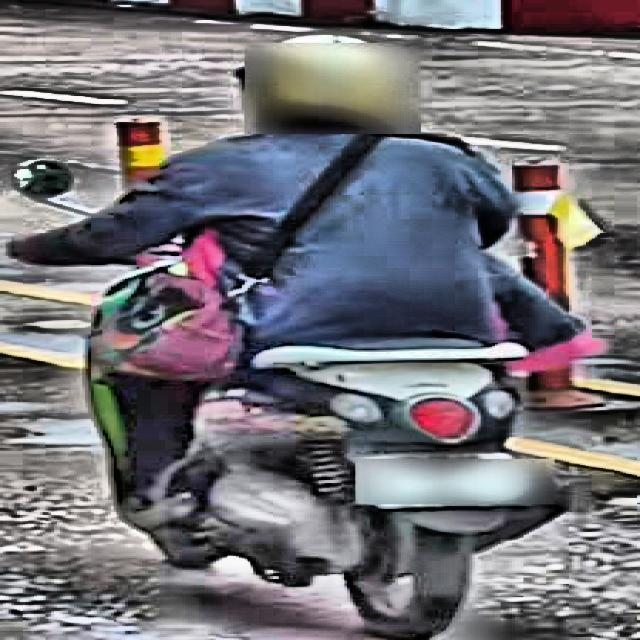motorcycle: (0, 145, 587, 634)
